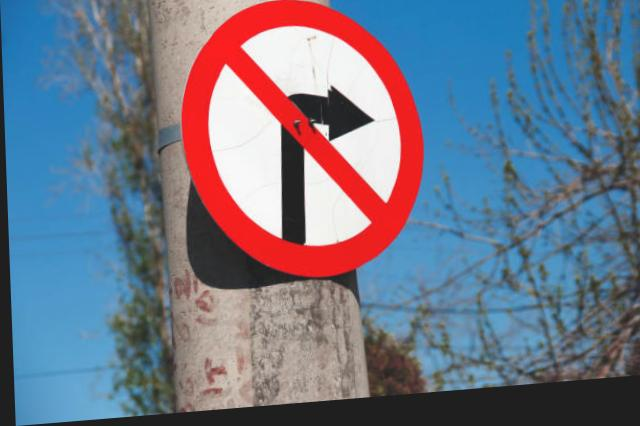not_turn_right: (171, 0, 427, 295)
